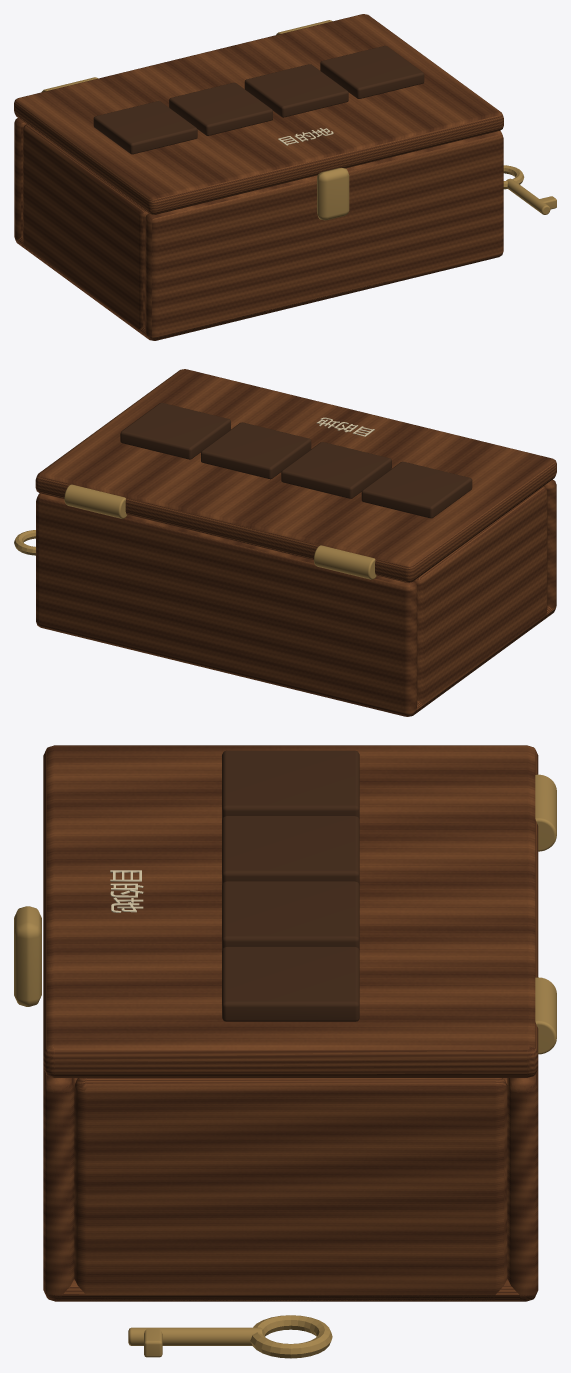
The model's file is P08_FinalWoodBox.fbx.
3 views of the same model, one above another, from view 1: azimuth 30°, elevation 25°; view 2: azimuth 150°, elevation 25°; view 3: azimuth 270°, elevation 25° (orthographic). The views are drawn at different scales.
Parts seen in each view (by area): view 1: Final chest_Front.001, FinalBox_Lid_Panel.001, Final chest_Side.002, WoodBlock socket.004, WoodBlock socket.006, WoodBlock socket.007, WoodBlock socket.005, Final latch.001, Final chest_Bottom.001, Final chest_Back.001, Key shaft.003; view 2: Final chest_Back.001, FinalBox_Lid_Panel.001, Final chest_Side.002, WoodBlock socket.004, WoodBlock socket.005, WoodBlock socket.006, WoodBlock socket.007, Lid hinge.007, Lid hinge.006, Final chest_Front.001, Final chest_Bottom.001; view 3: FinalBox_Lid_Panel.001, Final chest_Side.003, WoodBlock socket.007, WoodBlock socket.006, WoodBlock socket.005, WoodBlock socket.004, Final chest_Front.001, Final chest_Back.001, Final chest_Bottom.001, Final latch.001, Key bow.003, Key shaft.003 (+3 smaller).
Part boxes in pixels (bbox=[...]): Final chest_Front.001: bbox=[145, 131, 503, 339]; FinalBox_Lid_Panel.001: bbox=[14, 14, 503, 214]; Final chest_Side.002: bbox=[23, 124, 148, 330]; WoodBlock socket.004: bbox=[93, 101, 197, 154]; WoodBlock socket.006: bbox=[244, 64, 348, 117]; WoodBlock socket.007: bbox=[320, 45, 424, 98]; WoodBlock socket.005: bbox=[169, 82, 272, 135]; Final latch.001: bbox=[317, 168, 349, 220]; Final chest_Bottom.001: bbox=[15, 236, 395, 340]; Final chest_Back.001: bbox=[14, 118, 26, 239]; Key shaft.003: bbox=[506, 178, 550, 214]; Final chest_Back.001: bbox=[36, 493, 417, 716]; FinalBox_Lid_Panel.001: bbox=[35, 369, 556, 582]; Final chest_Side.002: bbox=[413, 486, 547, 704]; WoodBlock socket.004: bbox=[361, 461, 472, 518]; WoodBlock socket.005: bbox=[281, 442, 391, 498]; WoodBlock socket.006: bbox=[201, 422, 311, 479]; WoodBlock socket.007: bbox=[120, 403, 230, 459]; Lid hinge.007: bbox=[64, 484, 127, 518]; Lid hinge.006: bbox=[314, 545, 376, 579]; Final chest_Front.001: bbox=[544, 479, 556, 609]; Final chest_Bottom.001: bbox=[411, 605, 555, 716]; FinalBox_Lid_Panel.001: bbox=[43, 745, 538, 1077]; Final chest_Side.003: bbox=[74, 1078, 507, 1301]; WoodBlock socket.007: bbox=[222, 946, 359, 1021]; WoodBlock socket.006: bbox=[222, 881, 359, 950]; WoodBlock socket.005: bbox=[222, 816, 359, 885]; WoodBlock socket.004: bbox=[222, 750, 359, 819]; Final chest_Front.001: bbox=[43, 1068, 74, 1301]; Final chest_Back.001: bbox=[507, 1068, 538, 1301]; Final chest_Bottom.001: bbox=[47, 1078, 537, 1301]; Final latch.001: bbox=[14, 906, 41, 1006]; Key bow.003: bbox=[250, 1315, 332, 1358]; Key shaft.003: bbox=[128, 1327, 262, 1345].
Bounding box in the file's own units: 0.582 × 0.1975 × 0.351.
Materials: 4 (1 with a texture image).
